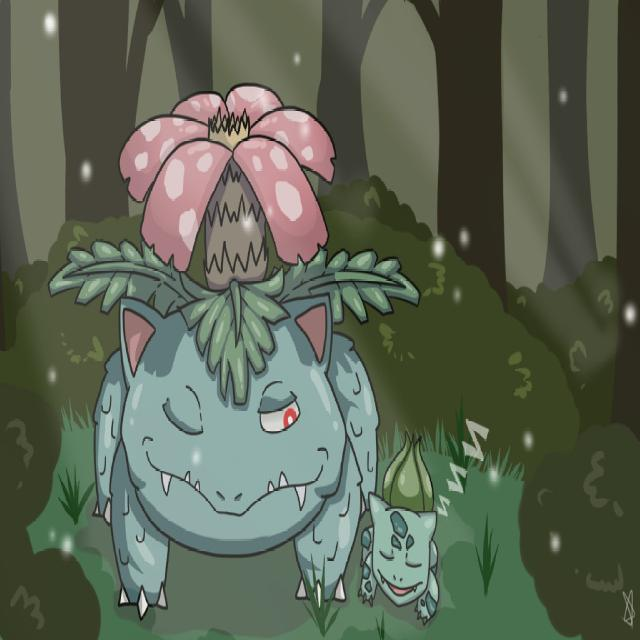Bulbasaur: (367, 442, 440, 624)
Venusaur: (108, 82, 350, 600)
